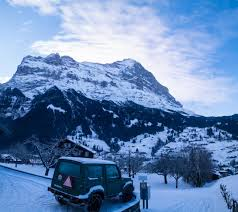mountain: (9, 54, 235, 164)
sky: (2, 2, 235, 65)
